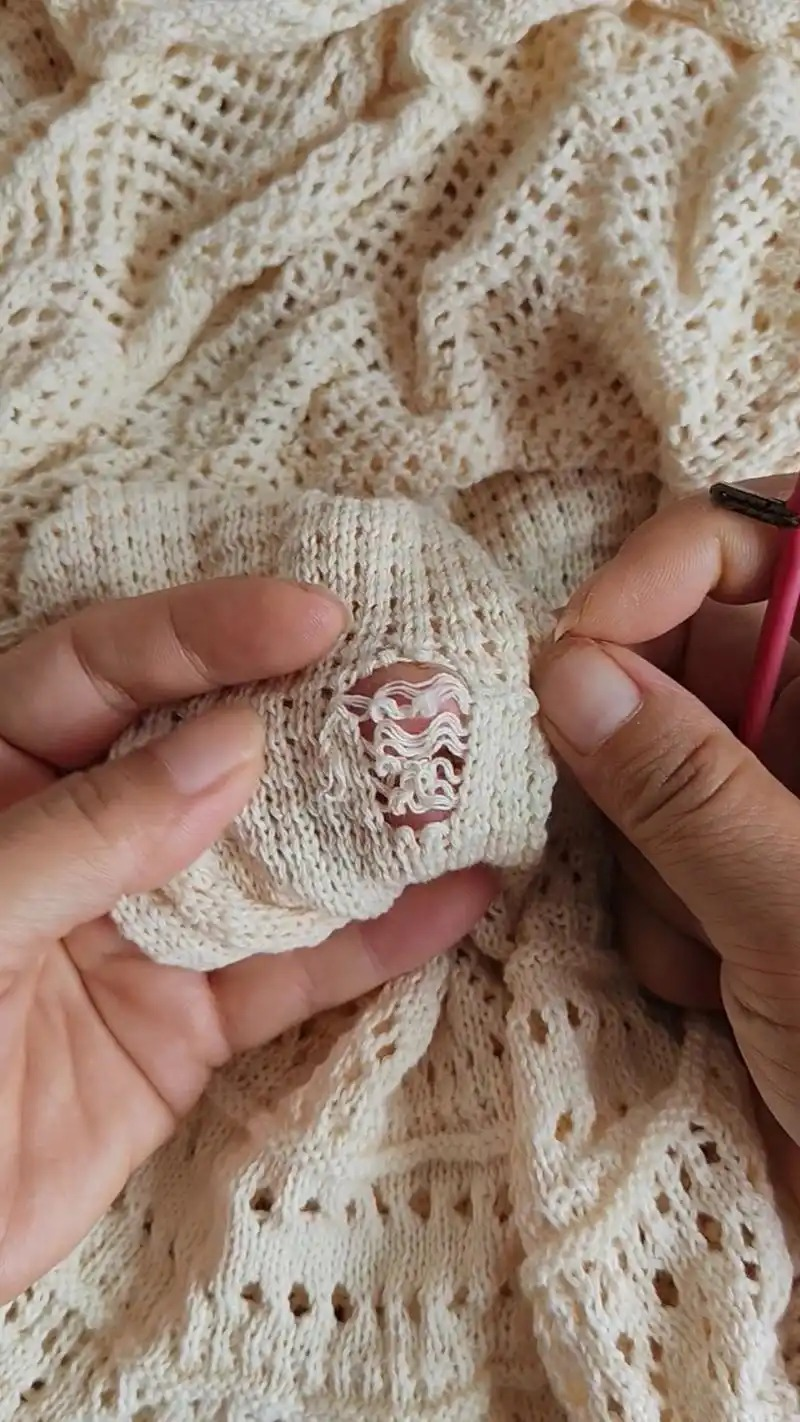missing_stitch_1: (346, 656, 510, 831)
